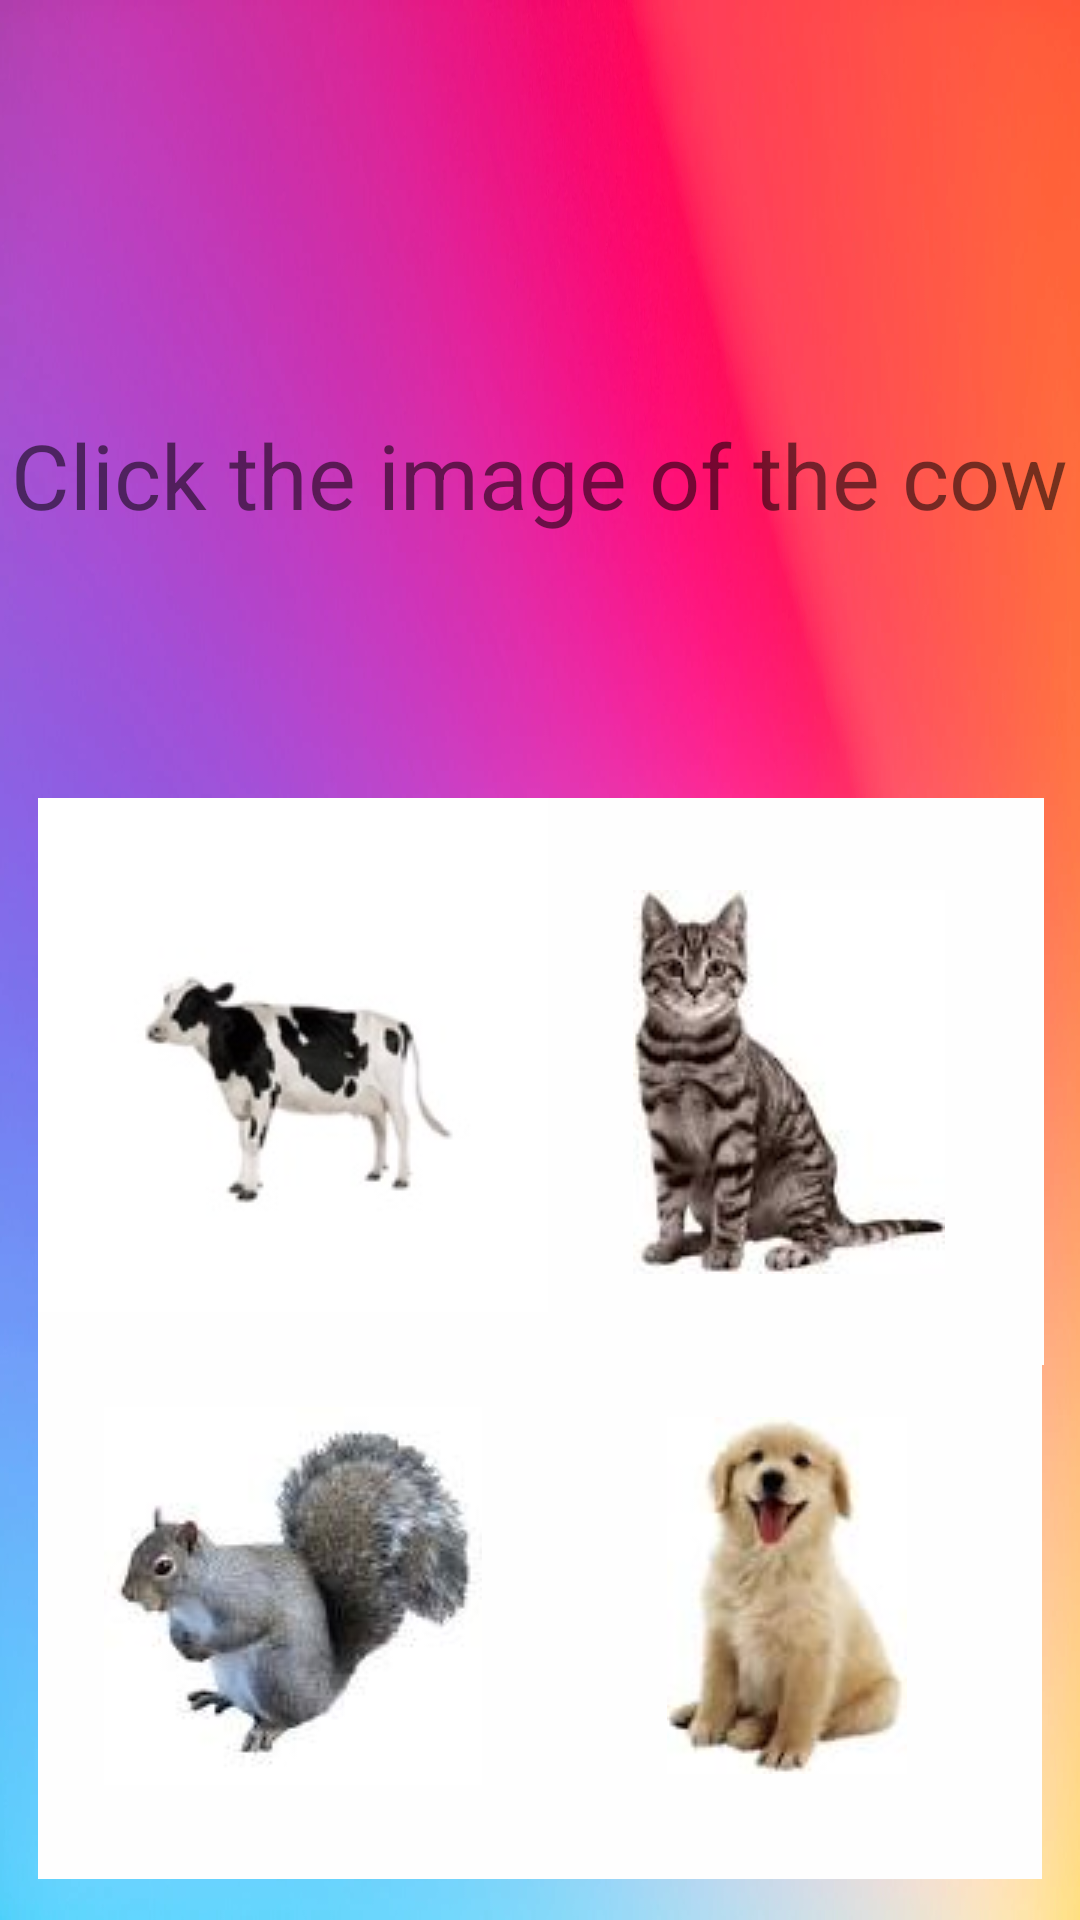

Icons on this 1080×1920 Android screen, each with its box as (x1,y1,x2,y2):
Cow Picture: (145,977,451,1203)
Dog Picture: (667,1422,902,1772)
Squirrel Picture: (119,1431,471,1763)
